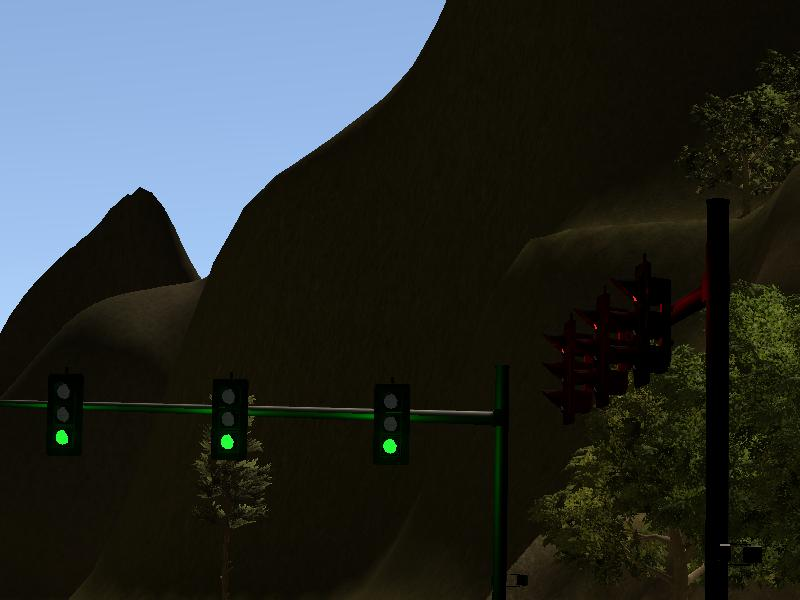Green: (212, 379, 245, 458), (376, 383, 404, 465), (50, 375, 79, 452)
